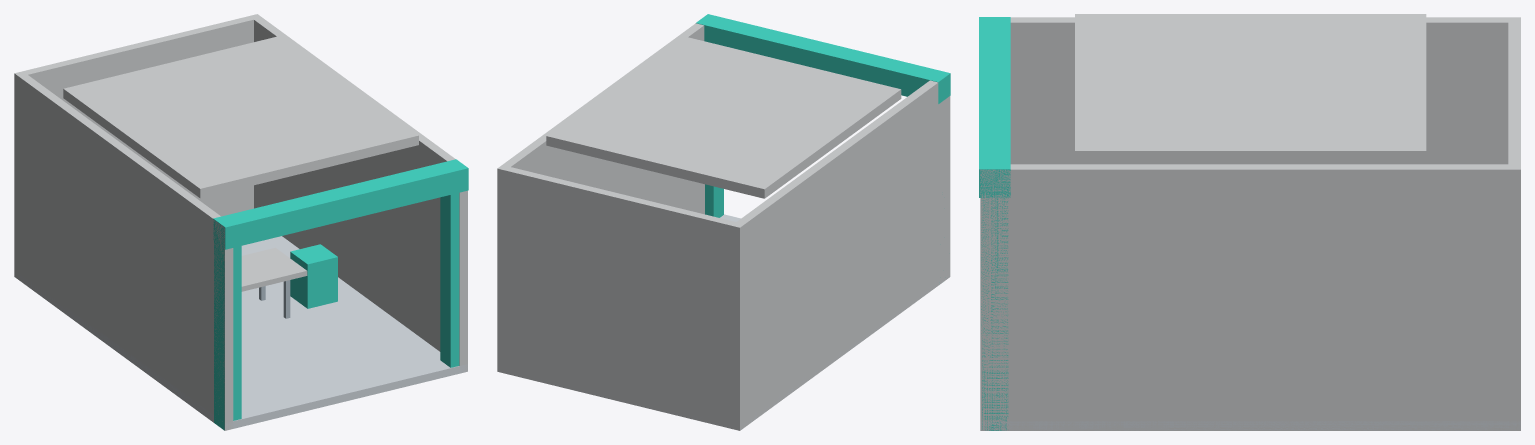
The picture shows the model from 3 angles, left to right: view 1: azimuth 30°, elevation 25°; view 2: azimuth 150°, elevation 25°; view 3: azimuth 270°, elevation 25°; orthographic projection. The views are drawn at different scales.
Visible parts, largest first — view 1: Exhibition Booth Concept; view 2: Exhibition Booth Concept; view 3: Exhibition Booth Concept.
Boxes of the visible parts, x1,y1,x2,y2 form: Exhibition Booth Concept: (14, 14, 468, 430); Exhibition Booth Concept: (497, 14, 950, 430); Exhibition Booth Concept: (979, 14, 1520, 430).
Bounding box in the file's own units: 4 × 3.34 × 6.02.
